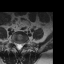CCS_normal: (18, 41, 20, 51)
LFS_normal: (23, 40, 25, 46)
LLS_normal: (20, 40, 23, 49)
RFS_normal: (13, 39, 16, 47)
RLS_normal: (16, 41, 18, 50)
